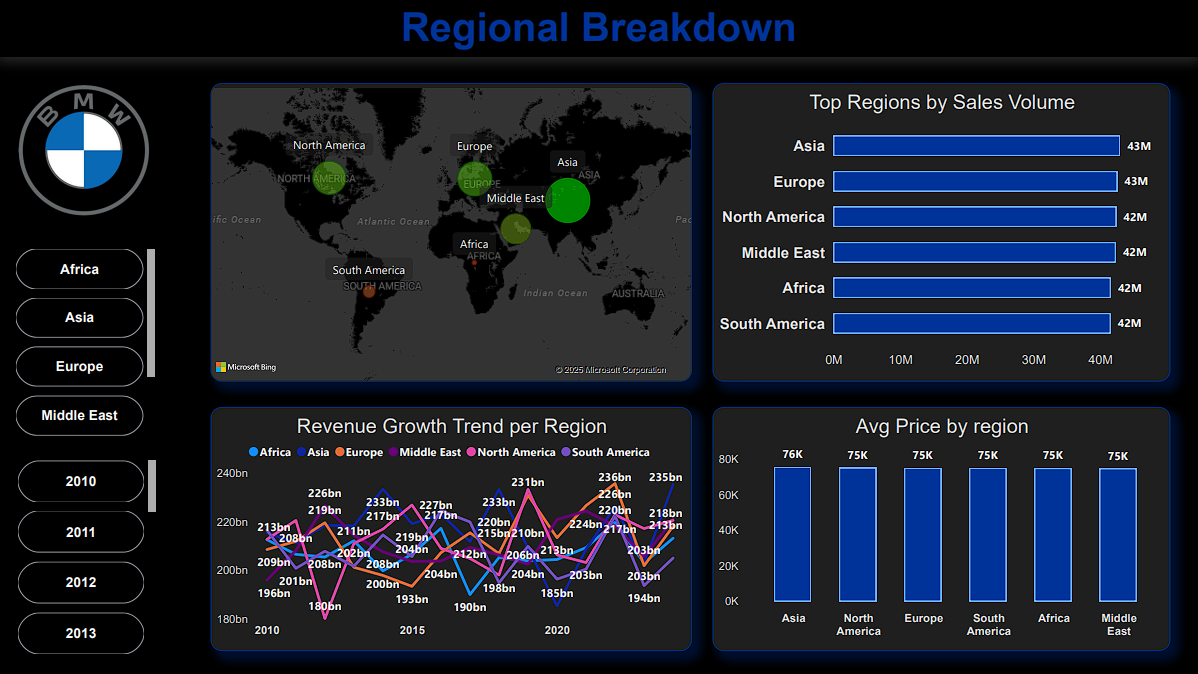

Layout of this report page (visuals, bound fields, positions):
{"tool":"powerbi","page":{"name":"Region BR","canvas":[1280,720],"ordinal":2},"visuals":[{"type":"textbox","title":"Regional Breakdown","box":[0,0,1280.3,61.7],"z":0},{"type":"advancedSlicerVisual","title":"Year ","fields":{"Values":["BMW_Sales.year"]},"box":[18.9,487,151.1,218.6],"z":1000},{"type":"advancedSlicerVisual","fields":{"Values":["BMW_Sales.region"]},"box":[17.1,264.3,151.4,204.3],"z":1001},{"type":"map","fields":{"Category":["BMW_Sales.region"],"Size":["BMW_Sales.Total Revenue"]},"box":[225.7,88.6,512.9,318.6],"z":1002},{"type":"barChart","title":"Top Regions by Sales Volume","fields":{"Category":["BMW_Sales.region"],"Y":["Sum(BMW_Sales.sales_volume)"]},"box":[761.4,88.6,487.1,318.6],"z":1003},{"type":"lineChart","title":"Revenue Growth Trend per Region","fields":{"Category":["BMW_Sales.year"],"Y":["BMW_Sales.Total Revenue"],"Series":["BMW_Sales.region"]},"box":[225.7,434.3,512.9,260],"z":1004},{"type":"clusteredColumnChart","fields":{"Category":["BMW_Sales.region"],"Y":["BMW_Sales.Avg Price"]},"box":[761.4,434.3,487.1,260],"z":1005},{"type":"image","box":[0,85,182,150],"z":1006}]}

Visuals, with their boxes in screenshot pixels (x1, y1, x2, y2), scaled from the page's 1280x720 canvas onto the 1198x674 screenshot:
"Regional Breakdown" textbox: 0,0,1197,58
"Year " advancedSlicerVisual: 18,456,159,661
advancedSlicerVisual - BMW_Sales.region: 16,247,158,439
map - BMW_Sales.region x BMW_Sales.Total Revenue: 211,83,691,381
"Top Regions by Sales Volume" barChart: 713,83,1169,381
"Revenue Growth Trend per Region" lineChart: 211,407,691,650
clusteredColumnChart - BMW_Sales.region x BMW_Sales.Avg Price: 713,407,1169,650
image: 0,80,170,220
